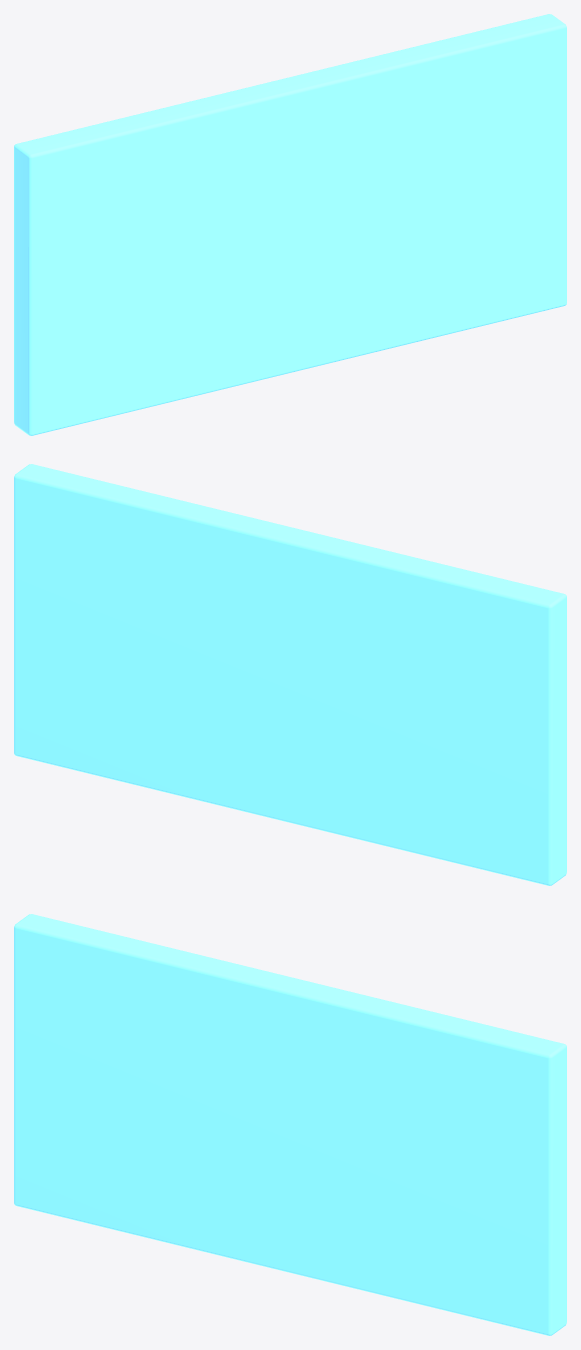
File: infotainment.glb
The picture shows the model from 3 angles, top to bottom: view 1: azimuth 30°, elevation 25°; view 2: azimuth 150°, elevation 25°; view 3: azimuth 330°, elevation 25°; orthographic projection.
Visible parts, largest first — view 1: GEO_Infotainment; view 2: GEO_Infotainment; view 3: GEO_Infotainment.
Boxes of the visible parts, x1=… form: GEO_Infotainment: x1=14, y1=14, x2=566, y2=435; GEO_Infotainment: x1=14, y1=464, x2=566, y2=885; GEO_Infotainment: x1=14, y1=914, x2=566, y2=1335.
Size of the model in its own units: 0.36 by 0.18 by 0.02.
